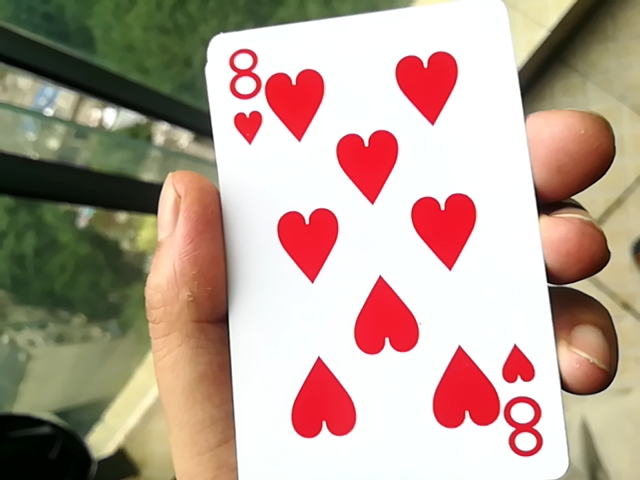hx 8: (202, 9, 563, 480)
